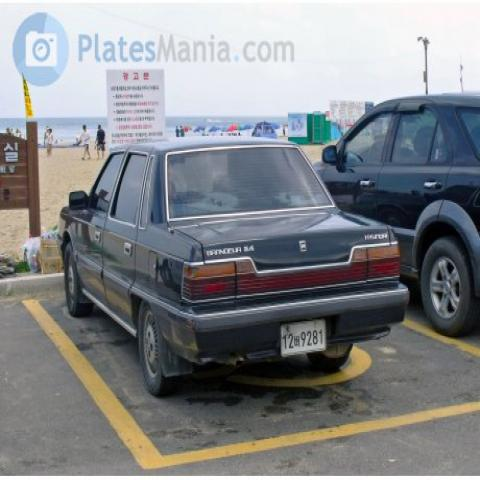LP: (272, 312, 340, 370)
